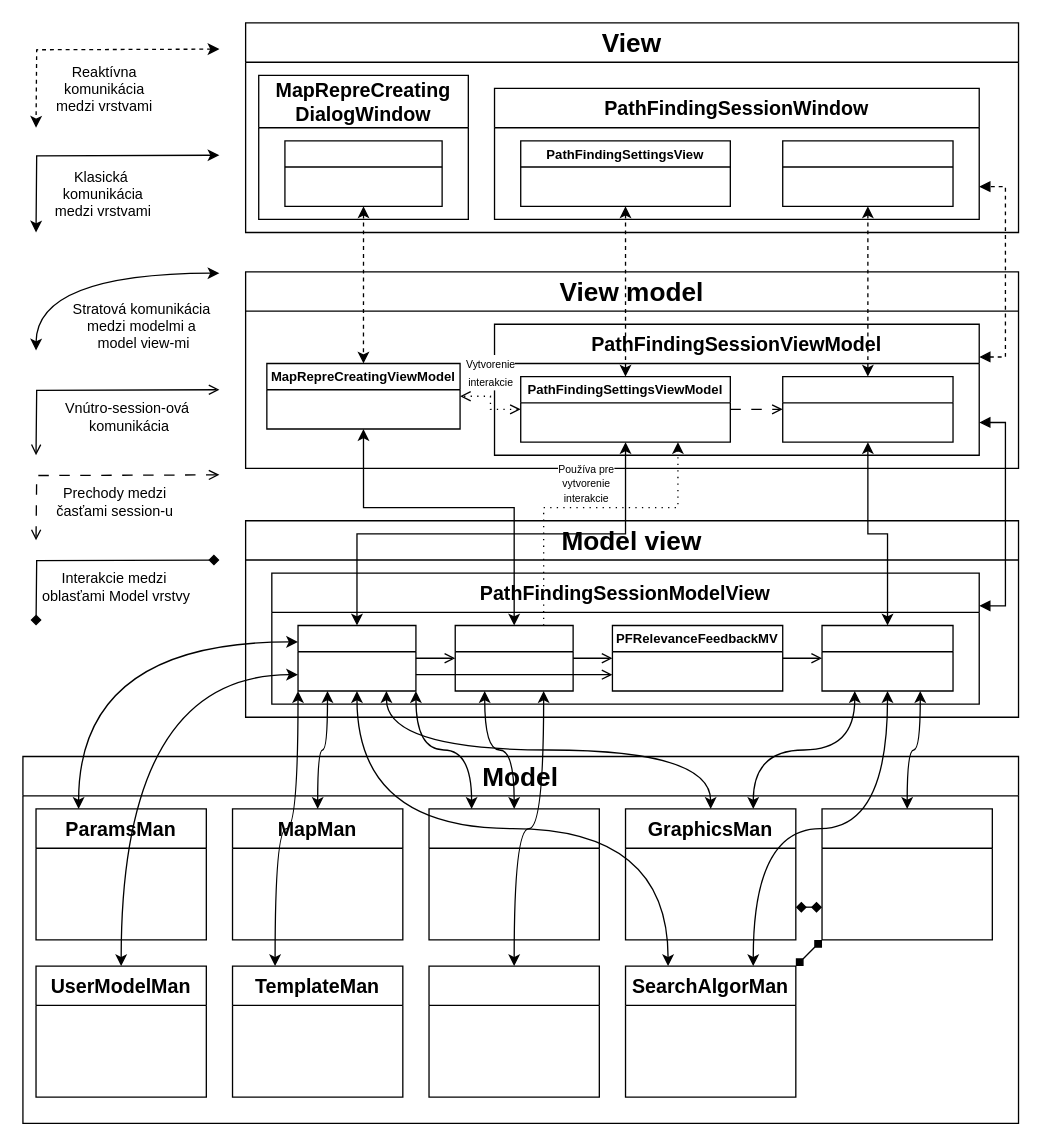
Image size: 1041x1146. Some labels were removed from this diagram. Here are the shapes that lost their labels. From the top down, the centre of each, then its label:
At point 363,173: "MapRepreCreatingView".
At point 867,173: "MainSettingsView".
At point 867,408: "PathFindingViewModel".
At point 356,657: "PFSettingsMV".
At point 513,657: "PFMapRepreMV".
At point 887,657: "PFPathFindingMV".
At point 513,874: "MapRepreMan".
At point 906,874: "ReportMan".
At point 513,1031: "ElevDataMan".
